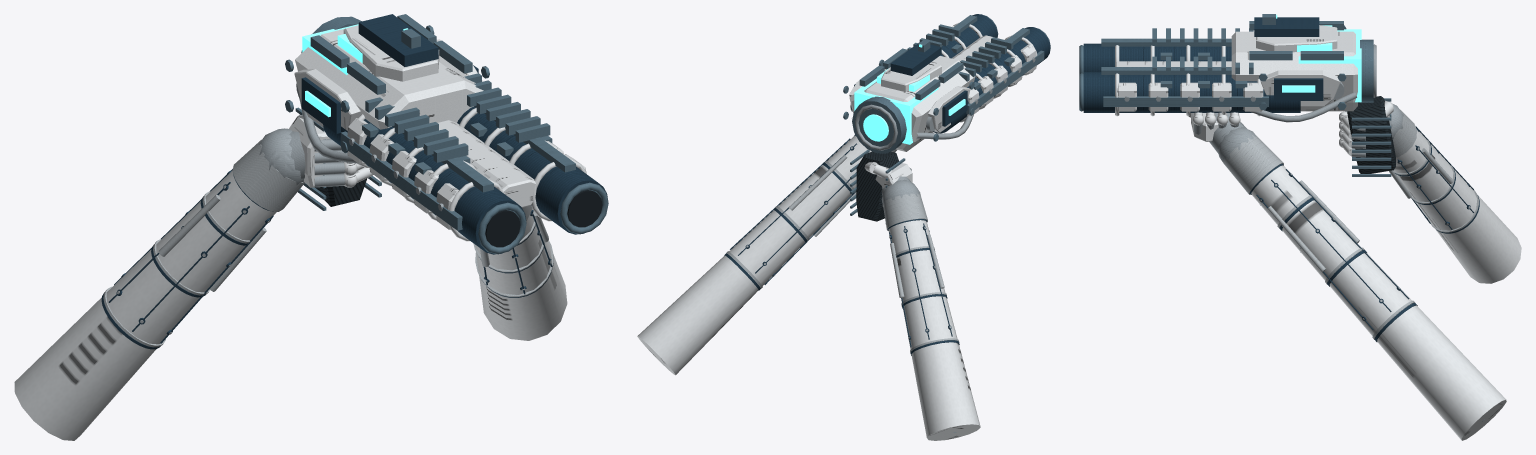
The model's file is first-person-shotgun-lod0.glb.
The picture shows the model from 3 angles, left to right: view 1: azimuth 30°, elevation 25°; view 2: azimuth 150°, elevation 25°; view 3: azimuth 270°, elevation 25°; orthographic projection. The views are drawn at different scales.
Parts seen in each view (by area): view 1: viewmodel:forearm:-1, viewmodel:forearm:1, weapon:receiver, weapon:barrel-shroud:1, weapon:barrel-shroud:-1, weapon:bridge, viewmodel:wrist:-1, weapon:sight:base, weapon:receiver:top-armour, weapon:barrel-rail:side:-1, viewmodel:wrist:ball:-1, weapon:side-plate:-1 (+14 smaller); view 2: viewmodel:forearm:1, viewmodel:forearm:-1, weapon:receiver, weapon:grip, weapon:breech:rear-housing, weapon:barrel-shroud:-1, viewmodel:wrist:-1, weapon:sight:base, weapon:receiver:top-armour, weapon:energy-chamber, weapon:barrel-shroud:1, weapon:barrel-rail:side:-1 (+7 smaller); view 3: viewmodel:forearm:1, viewmodel:forearm:-1, weapon:barrel-shroud:1, weapon:receiver, weapon:barrel-shroud:-1, weapon:grip, viewmodel:wrist:1, weapon:barrel-rail:side:1, weapon:side-plate:1, weapon:sight:base, weapon:receiver:top-armour, weapon:barrel-rail:-1 (+11 smaller).
Boxes of the visible parts, left/top/right/bottom form: viewmodel:forearm:-1: left=14, top=170, right=276, bottom=440; viewmodel:forearm:1: left=475, top=209, right=567, bottom=340; weapon:receiver: left=295, top=29, right=483, bottom=129; weapon:barrel-shroud:1: left=457, top=106, right=608, bottom=234; weapon:barrel-shroud:-1: left=323, top=119, right=526, bottom=254; weapon:bridge: left=438, top=120, right=535, bottom=207; viewmodel:wrist:-1: left=232, top=139, right=304, bottom=211; weapon:sight:base: left=358, top=14, right=438, bottom=66; weapon:receiver:top-armour: left=343, top=25, right=439, bottom=81; weapon:barrel-rail:side:-1: left=340, top=131, right=462, bottom=230; viewmodel:wrist:ball:-1: left=259, top=128, right=304, bottom=184; weapon:side-plate:-1: left=294, top=69, right=360, bottom=130; viewmodel:forearm:1: left=637, top=135, right=871, bottom=375; viewmodel:forearm:-1: left=888, top=220, right=980, bottom=440; weapon:receiver: left=849, top=56, right=975, bottom=151; weapon:grip: left=856, top=151, right=898, bottom=221; weapon:breech:rear-housing: left=852, top=96, right=906, bottom=153; weapon:barrel-shroud:-1: left=933, top=27, right=1050, bottom=133; viewmodel:wrist:-1: left=883, top=193, right=927, bottom=230; weapon:sight:base: left=890, top=42, right=941, bottom=75; weapon:receiver:top-armour: left=881, top=57, right=941, bottom=91; weapon:energy-chamber: left=854, top=78, right=938, bottom=144; weapon:barrel-shroud:1: left=940, top=14, right=997, bottom=58; weapon:barrel-rail:side:-1: left=966, top=50, right=1044, bottom=114; viewmodel:forearm:1: left=1251, top=165, right=1506, bottom=440; viewmodel:forearm:-1: left=1394, top=130, right=1521, bottom=283; weapon:barrel-shroud:1: left=1083, top=72, right=1300, bottom=112; weapon:receiver: left=1231, top=31, right=1357, bottom=111; weapon:barrel-shroud:-1: left=1083, top=43, right=1231, bottom=71; weapon:grip: left=1347, top=96, right=1395, bottom=173; viewmodel:wrist:1: left=1223, top=134, right=1283, bottom=194; weapon:barrel-rail:side:1: left=1103, top=96, right=1268, bottom=106; weapon:side-plate:1: left=1260, top=70, right=1340, bottom=106; weapon:sight:base: left=1254, top=17, right=1319, bottom=36; weapon:receiver:top-armour: left=1256, top=25, right=1337, bottom=52; weapon:barrel-rail:-1: left=1101, top=38, right=1231, bottom=46.
Bounding box in the file's own units: 0.9341 × 0.7874 × 0.9418.
Materials: 8 (6 with a texture image).
